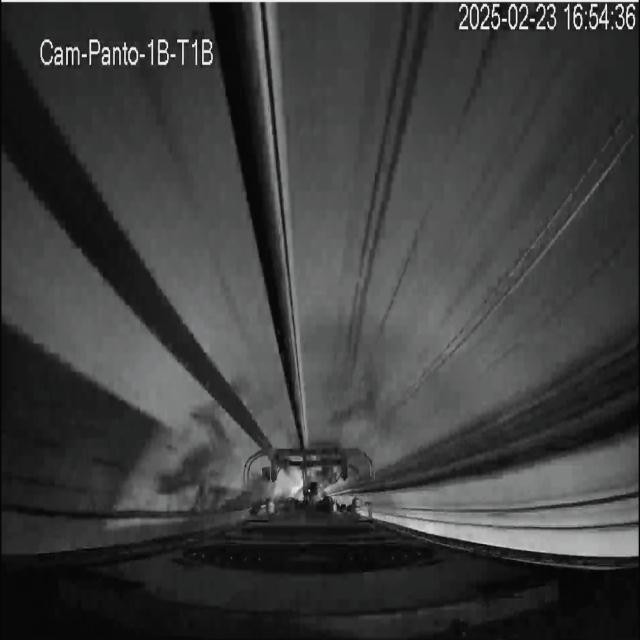Camera Stamp: (38, 33, 220, 69)
Date Stamp: (459, 3, 637, 33)
